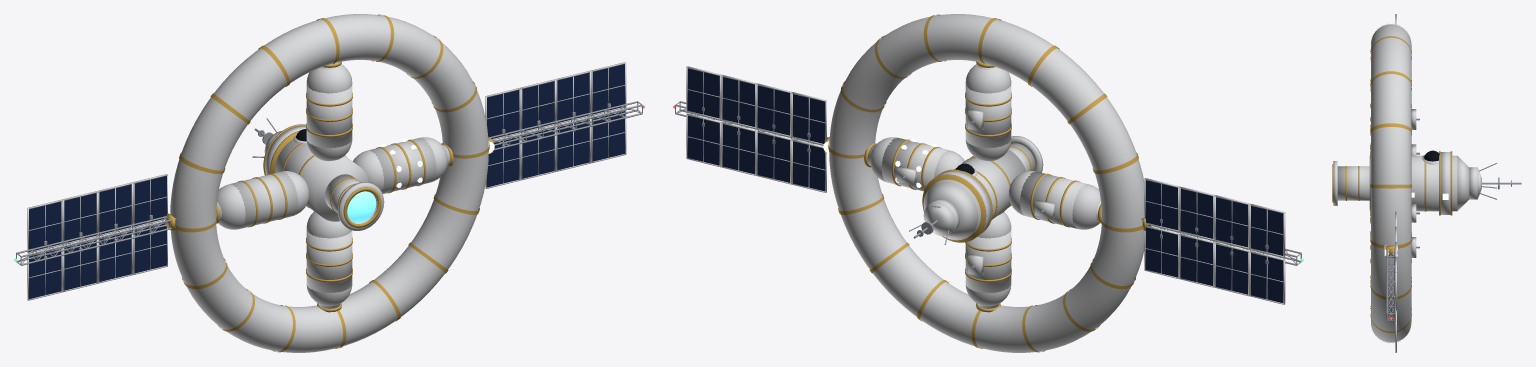
File: station.glb
The picture shows the model from 3 angles, left to right: view 1: azimuth 30°, elevation 25°; view 2: azimuth 150°, elevation 25°; view 3: azimuth 270°, elevation 25°; orthographic projection. The views are drawn at different scales.
Visible parts, largest first — view 1: station_hull, station_solar, station_gold, station_truss, dock_field; view 2: station_hull, station_solar, station_gold, station_truss; view 3: station_hull, station_gold, station_truss.
Part boxes in pixels (x1,y1,x2,y2): station_hull: [27, 14, 626, 352]; station_solar: [29, 64, 624, 299]; station_gold: [166, 14, 493, 352]; station_truss: [16, 101, 642, 265]; dock_field: [347, 191, 376, 222]; station_hull: [686, 14, 1285, 352]; station_solar: [687, 68, 1283, 302]; station_gold: [824, 14, 1150, 352]; station_truss: [675, 101, 1301, 268]; station_hull: [1333, 14, 1481, 352]; station_gold: [1332, 23, 1452, 343]; station_truss: [1386, 118, 1521, 321].
Bounding box in the file's own units: 60.07 × 29.92 × 17.7.
